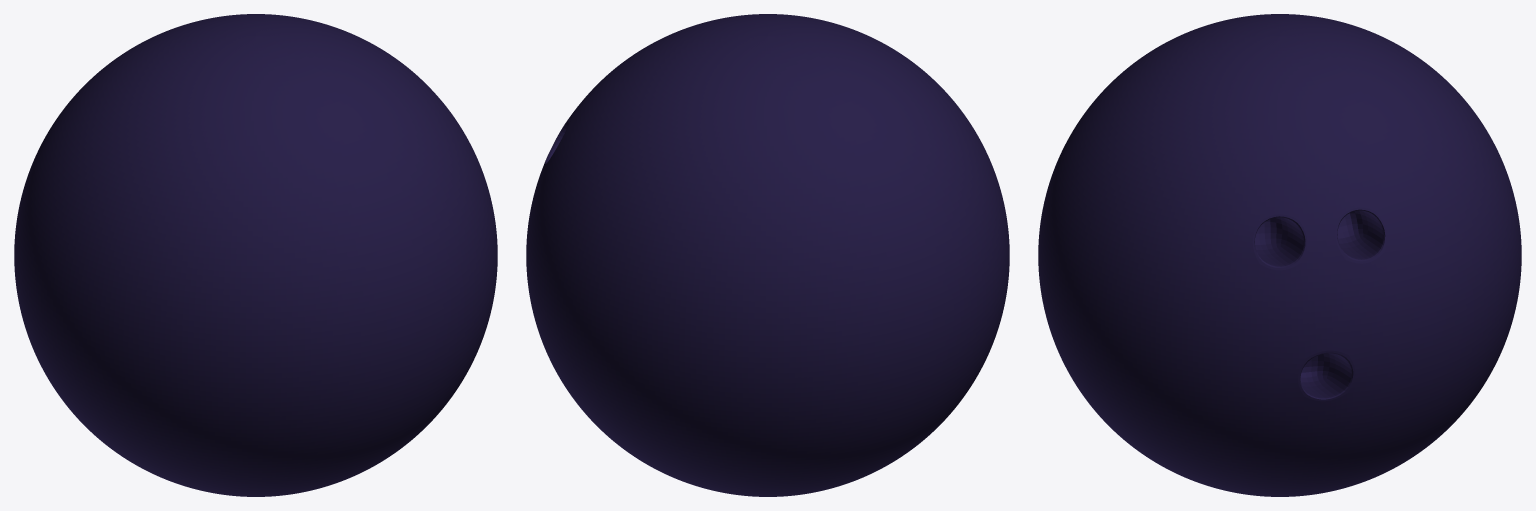
The model's file is Boule.fbx.
3 renders of one model, left to right at view 1: azimuth 30°, elevation 25°; view 2: azimuth 150°, elevation 25°; view 3: azimuth 270°, elevation 25°, orthographic.
Visible parts, largest first — view 1: Boule; view 2: Boule; view 3: Boule.
Part boxes in pixels (x1,y1,x2,y2): Boule: (14, 14, 497, 496); Boule: (526, 14, 1009, 496); Boule: (1038, 14, 1521, 496).
Size of the model in its own units: 60 by 60 by 60.
